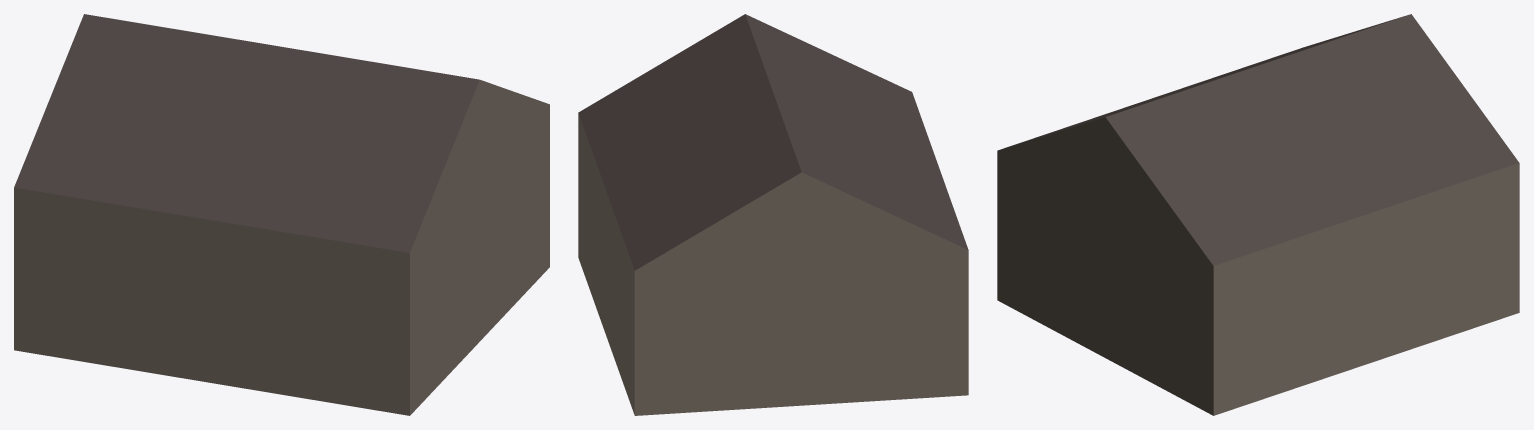
The picture shows the model from 3 angles, left to right: view 1: azimuth 30°, elevation 25°; view 2: azimuth 150°, elevation 25°; view 3: azimuth 270°, elevation 25°; orthographic projection. The views are drawn at different scales.
Parts seen in each view (by area): view 1: HP-w160965773; view 2: HP-w160965773; view 3: HP-w160965773.
Boxes of the visible parts, x1=… form: HP-w160965773: x1=14, y1=14, x2=549, y2=415; HP-w160965773: x1=578, y1=14, x2=968, y2=415; HP-w160965773: x1=997, y1=14, x2=1519, y2=415.
Bounding box in the file's own units: 18.77 × 9.65 × 18.94.
